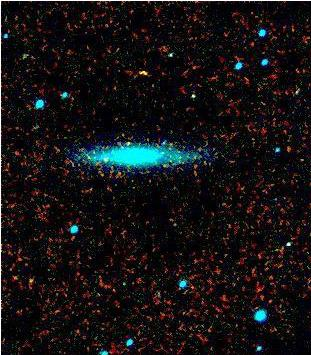star: (113, 128, 143, 158)
